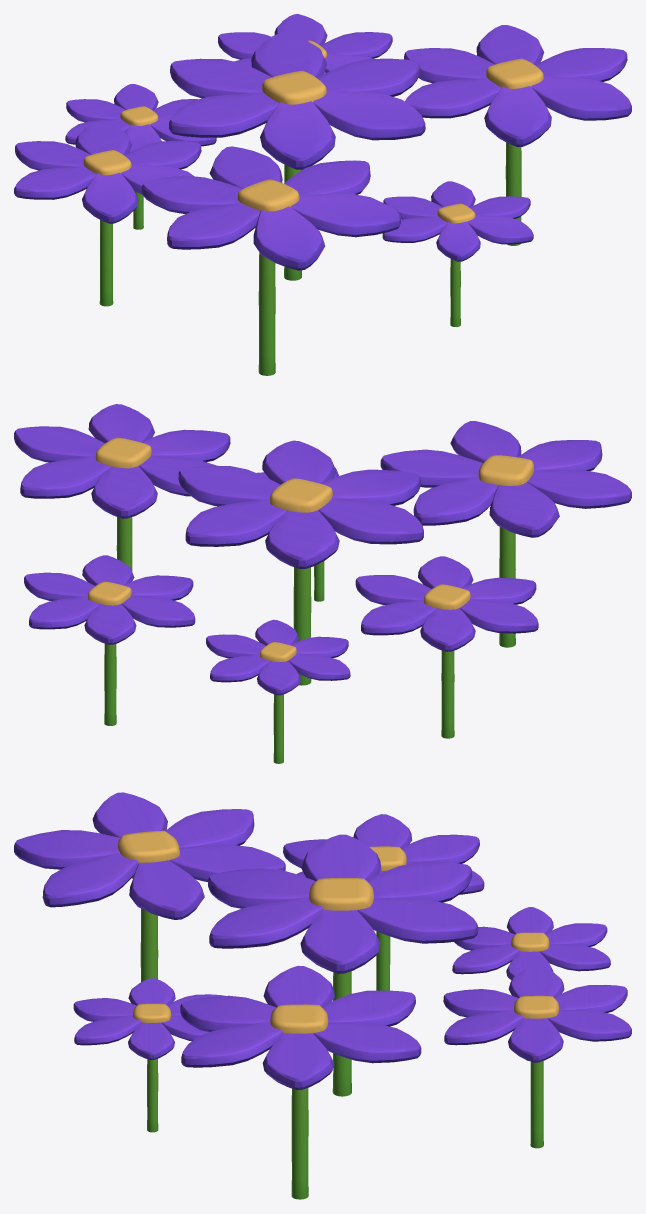
Rendered from Flowers-purple-new.fbx.
3 renders of one model, top to bottom at view 1: azimuth 30°, elevation 25°; view 2: azimuth 150°, elevation 25°; view 3: azimuth 270°, elevation 25°, orthographic. The views are drawn at different scales.
Parts seen in each view (by area): view 1: polySurface61; view 2: polySurface61; view 3: polySurface61.
Boxes of the visible parts, bbox=[...] form: polySurface61: bbox=[14, 14, 631, 375]; polySurface61: bbox=[14, 404, 631, 763]; polySurface61: bbox=[14, 792, 631, 1199].
Bounding box in the file's own units: 0.4564 × 0.1482 × 0.4056.
1 material, 1 textured.
